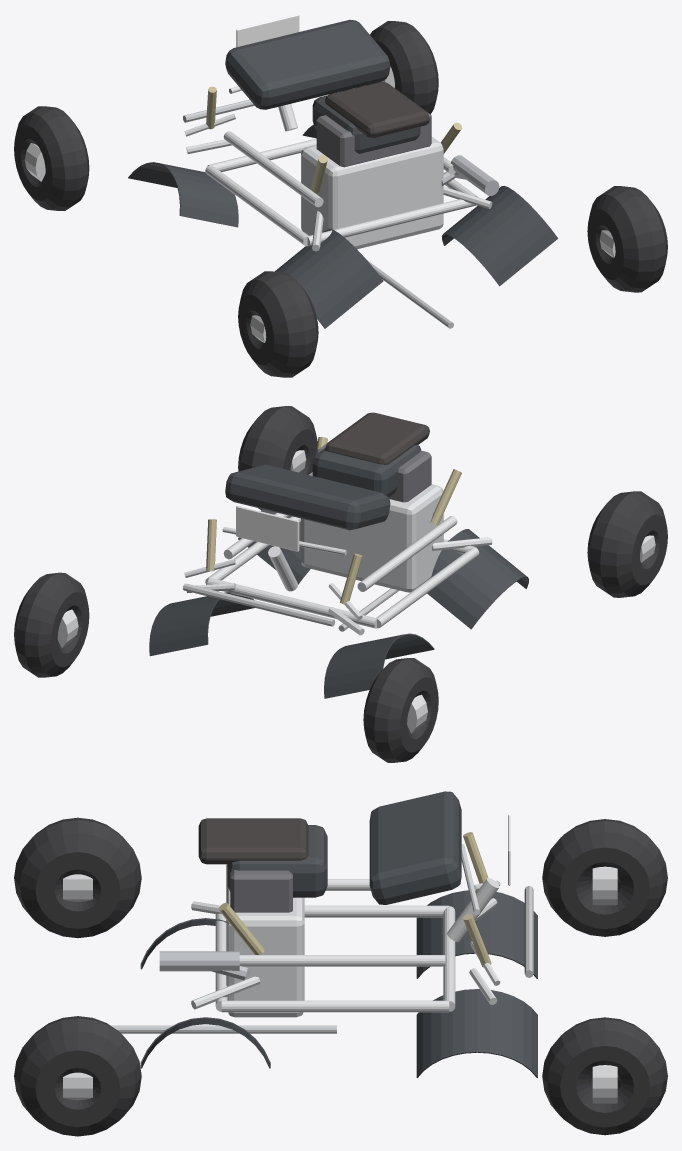
The model's file is atvopen_lod1.glb.
3 views of the same model, one above another, from view 1: azimuth 30°, elevation 25°; view 2: azimuth 150°, elevation 25°; view 3: azimuth 270°, elevation 25° (orthographic). The views are drawn at different scales.
Visible parts, largest first — view 1: b_engine, b_hood, b_wheel_rr_tire, b_wheel_rl_tire, b_rfender_1, b_wheel_fl_tire, b_rfender_-1, b_seat, b_wheel_fr_tire, b_ffender_-1, b_engine_head, b_tank (+8 smaller); view 2: b_engine, b_hood, b_wheel_rl_tire, b_wheel_fl_tire, b_wheel_fr_tire, b_rfender_-1, b_wheel_rr_tire, b_ffender_-1, b_seat, b_ffender_1, b_tank, b_plate (+11 smaller); view 3: b_wheel_rl_tire, b_wheel_rr_tire, b_wheel_fr_tire, b_wheel_fl_tire, b_hood, b_ffender_1, b_engine, b_ffender_-1, b_seat, b_rail_1, b_tank, b_engine_head (+19 smaller).
Boxes of the visible parts, x1,y1,x2,y2 form: b_engine: (301, 136, 443, 249); b_hood: (225, 19, 390, 109); b_wheel_rr_tire: (587, 186, 667, 292); b_wheel_rl_tire: (238, 271, 318, 377); b_rfender_1: (441, 186, 558, 286); b_wheel_fl_tire: (14, 106, 89, 210); b_rfender_-1: (275, 228, 383, 328); b_seat: (325, 82, 429, 137); b_wheel_fr_tire: (370, 21, 438, 114); b_ffender_-1: (128, 162, 238, 227); b_engine_head: (316, 112, 431, 167); b_tank: (312, 95, 420, 153); b_engine: (301, 475, 443, 592); b_hood: (225, 464, 390, 530); b_wheel_rl_tire: (587, 491, 667, 597); b_wheel_fl_tire: (363, 658, 438, 762); b_wheel_fr_tire: (14, 572, 89, 677); b_rfender_-1: (427, 529, 528, 629); b_wheel_rr_tire: (238, 406, 317, 510); b_ffender_-1: (324, 633, 434, 698); b_seat: (325, 412, 429, 464); b_ffender_1: (149, 591, 254, 656); b_tank: (312, 444, 421, 496); b_plate: (236, 505, 299, 551); b_wheel_rl_tire: (14, 817, 141, 938); b_wheel_rr_tire: (14, 1016, 141, 1136); b_wheel_fr_tire: (542, 1017, 667, 1135); b_wheel_fl_tire: (542, 819, 667, 936); b_hood: (369, 791, 461, 904); b_ffender_1: (416, 989, 537, 1077); b_engine: (226, 864, 304, 1017); b_ffender_-1: (416, 890, 537, 978); b_seat: (198, 818, 308, 864); b_rail_1: (221, 1000, 449, 1012); b_tank: (227, 825, 327, 897); b_engine_head: (230, 870, 292, 912).
Size of the model in its own units: 2.65 by 1.16 by 3.28.
